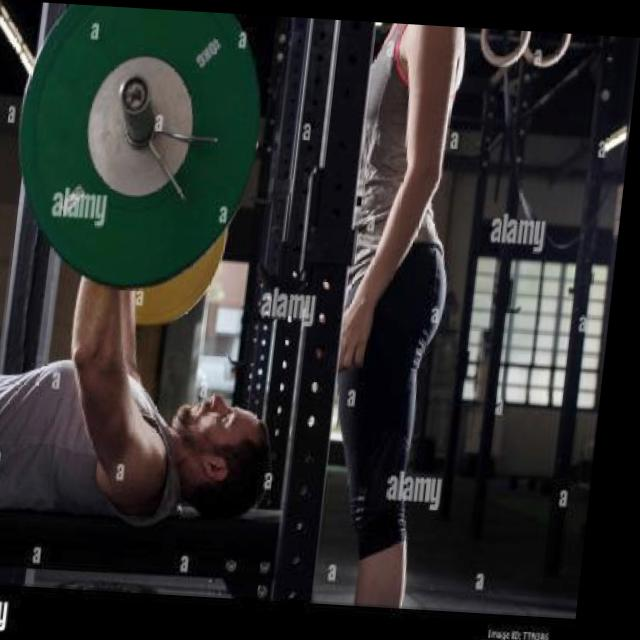barbell: (2, 2, 278, 296)
